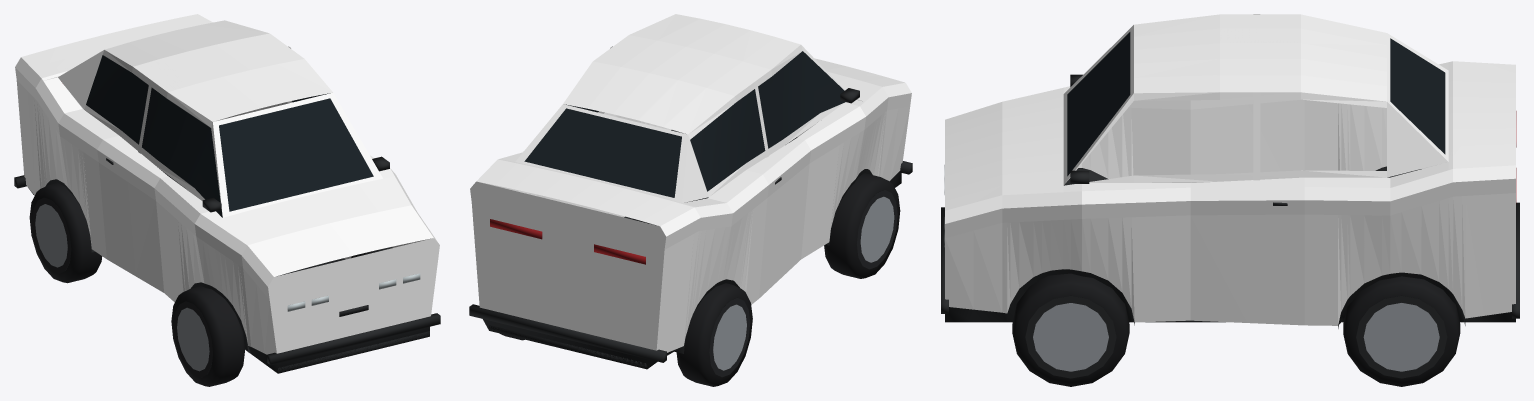
Rendered from kanaya_trilha.glb.
The picture shows the model from 3 angles, left to right: view 1: azimuth 30°, elevation 25°; view 2: azimuth 150°, elevation 25°; view 3: azimuth 270°, elevation 25°; orthographic projection. The views are drawn at different scales.
Parts seen in each view (by area): view 1: Body_Paint, Body_Details, Mount_FrontLeft_Wheel_Details, Mount_RearLeft_Wheel_Details; view 2: Body_Paint, Body_Details, Mount_FrontLeft_Wheel_Details, Mount_RearLeft_Wheel_Details; view 3: Body_Paint, Body_Details, Mount_FrontRight_Wheel_Details, Mount_RearRight_Wheel_Details.
Boxes of the visible parts, x1,y1,x2,y2 form: Body_Paint: [15, 14, 439, 354]; Body_Details: [14, 55, 440, 373]; Mount_FrontLeft_Wheel_Details: [171, 286, 244, 386]; Mount_RearLeft_Wheel_Details: [29, 183, 102, 283]; Body_Paint: [470, 14, 911, 352]; Body_Details: [469, 51, 912, 369]; Mount_FrontLeft_Wheel_Details: [824, 173, 900, 278]; Mount_RearLeft_Wheel_Details: [676, 283, 752, 386]; Body_Paint: [945, 14, 1515, 325]; Body_Details: [941, 32, 1519, 328]; Mount_FrontRight_Wheel_Details: [1012, 273, 1129, 386]; Mount_RearRight_Wheel_Details: [1343, 276, 1460, 386].
Bounding box in the file's own units: 1.97 × 2.1 × 3.95.
Materials: 2 (1 with a texture image).
